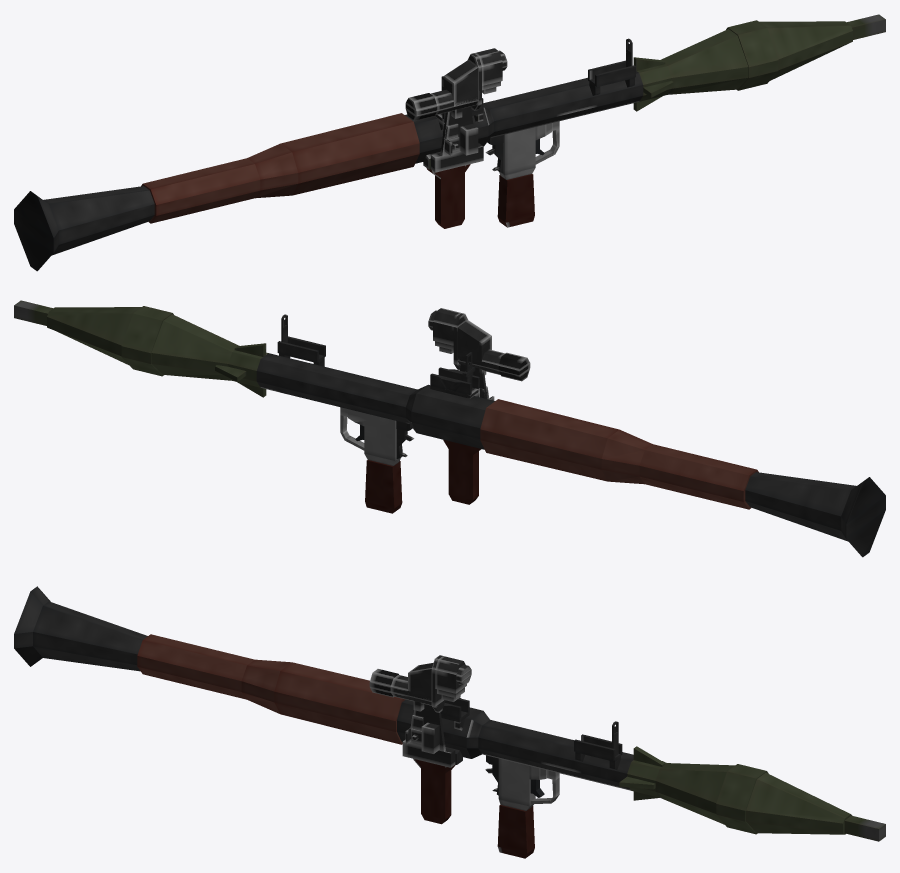
The model's file is rpg7.obj.
3 views of the same model, one above another, from view 1: azimuth 30°, elevation 25°; view 2: azimuth 150°, elevation 25°; view 3: azimuth 330°, elevation 25° (orthographic).
Parts seen in each view (by area): view 1: gunModel9, gunModel18, gunModel16, gunModel1, ammoModel3, ammoModel6, gunModel0, gunModel43, gunModel41, gunModel10, gunModel11, ammoModel10 (+20 smaller); view 2: gunModel9, gunModel1, gunModel18, gunModel16, ammoModel3, ammoModel6, gunModel3, gunModel0, gunModel43, gunModel41, ammoModel10, gunModel10 (+19 smaller); view 3: gunModel9, gunModel18, ammoModel6, gunModel16, gunModel1, ammoModel3, gunModel0, gunModel43, gunModel41, gunModel10, gunModel11, ammoModel10 (+17 smaller).
Boxes of the visible parts, x1,y1,x2,y2 form: gunModel9: (280,113,419,172); gunModel18: (43,186,154,230); gunModel16: (141,158,260,204); gunModel1: (483,71,642,121); ammoModel3: (661,29,748,77); ammoModel6: (759,21,852,59); gunModel0: (494,85,643,131); gunModel43: (435,165,464,224); gunModel41: (497,174,534,222); gunModel10: (292,154,419,195); gunModel11: (298,143,419,183); ammoModel10: (726,20,777,67); gunModel9: (480,399,619,458); gunModel1: (257,353,417,407); gunModel18: (745,472,856,516); gunModel16: (639,444,758,490); ammoModel3: (151,314,239,363); ammoModel6: (47,307,141,345); gunModel3: (411,385,494,428); gunModel0: (256,371,405,417); gunModel43: (448,441,478,500); gunModel41: (365,460,402,508); ammoModel10: (122,306,173,353); gunModel10: (480,440,607,481); gunModel9: (274,662,405,721); gunModel18: (33,601,147,654); ammoModel6: (746,773,852,823); gunModel16: (137,634,254,680); gunModel1: (478,719,633,773); ammoModel3: (655,763,734,802); gunModel0: (478,737,627,782); gunModel43: (421,760,451,819); gunModel41: (497,805,534,853); gunModel10: (274,702,402,744); gunModel11: (274,691,396,731); ammoModel10: (716,764,768,810).
Size of the model in its own units: 49.25 by 10.75 by 4.35.
